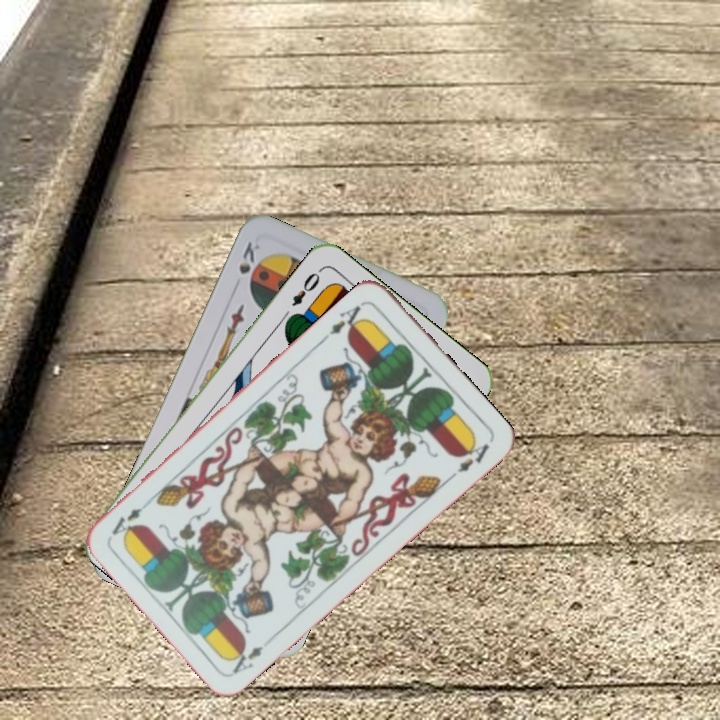EA: (319, 298, 370, 343), (225, 640, 266, 677)
EO: (287, 264, 324, 309)
SK: (234, 237, 263, 277)
